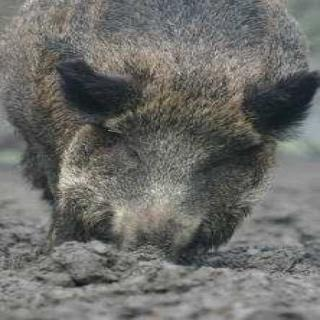Pig: (13, 0, 310, 258)
